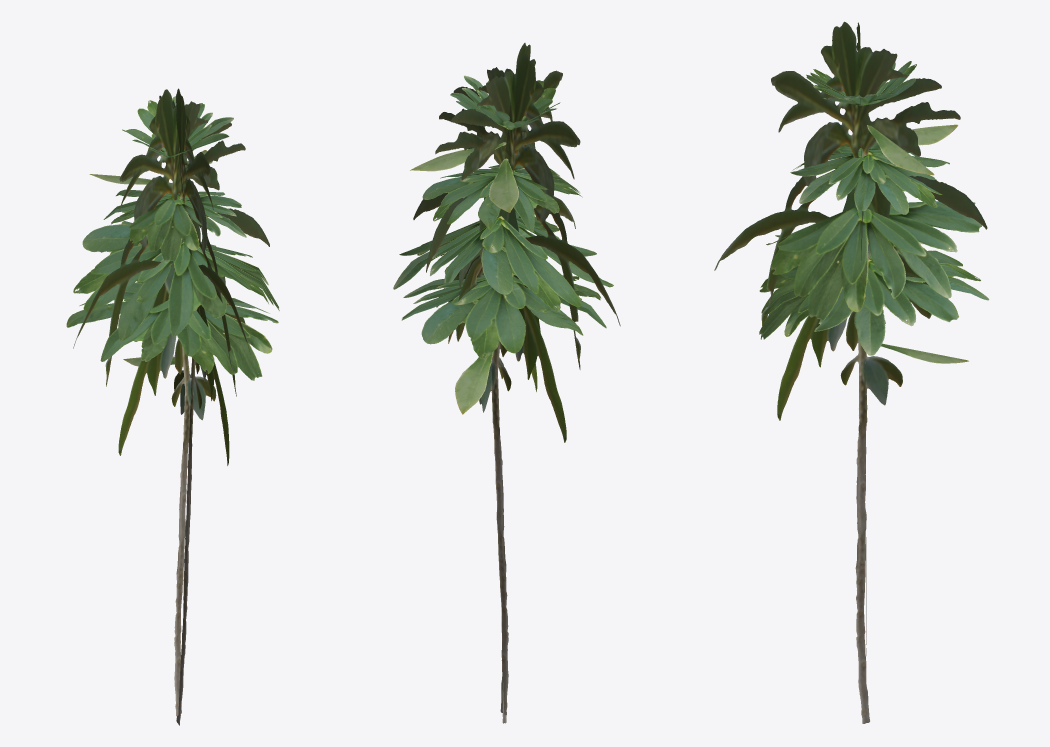
Rendered from Forest_Plant5.fbx.
The picture shows the model from 3 angles, left to right: view 1: azimuth 30°, elevation 25°; view 2: azimuth 150°, elevation 25°; view 3: azimuth 270°, elevation 25°; orthographic projection. The views are drawn at different scales.
Visible parts, largest first — view 1: Forest_plant5; view 2: Forest_plant5; view 3: Forest_plant5.
Part boxes in pixels (left/top/right/bottom): Forest_plant5: left=66, top=88, right=279, bottom=725; Forest_plant5: left=393, top=43, right=620, bottom=723; Forest_plant5: left=714, top=21, right=989, bottom=723.
Size of the model in its own units: 0.5699 by 1.38 by 0.5844.
